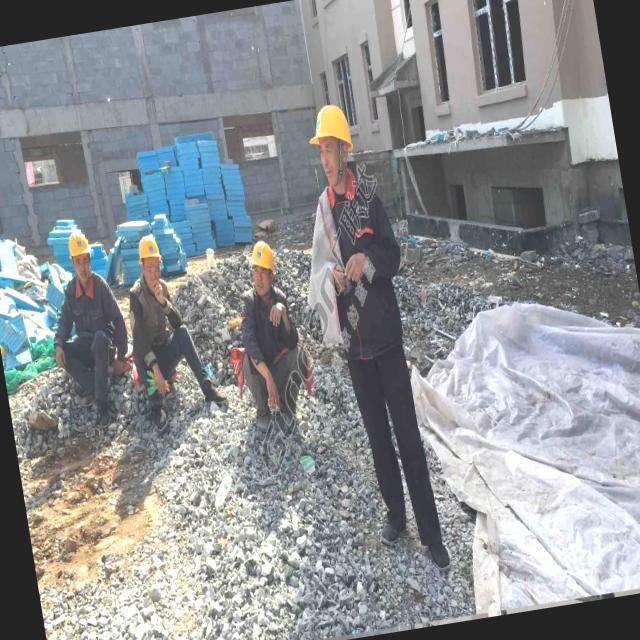helmet: (299, 96, 364, 163), (243, 231, 280, 283), (60, 223, 98, 264), (130, 226, 164, 268)
no-vest: (297, 172, 405, 294), (224, 280, 301, 360), (125, 270, 183, 351), (54, 268, 122, 334)
